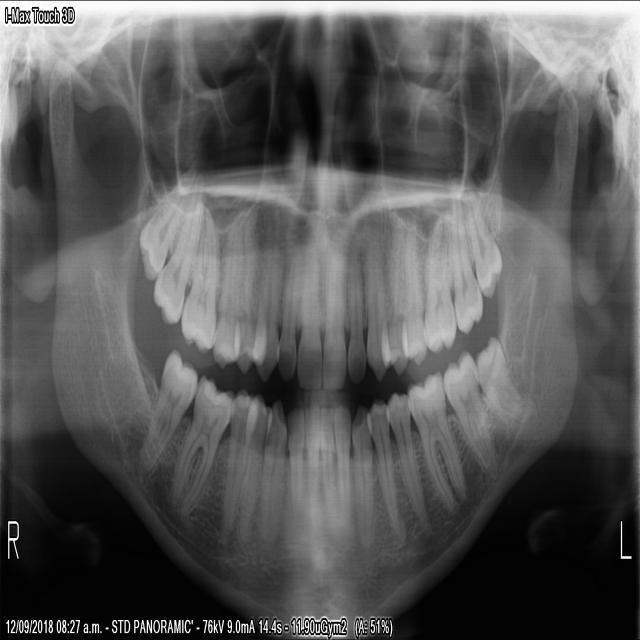LCD: (349, 402, 372, 553)
LCU: (363, 236, 389, 385)
LID: (316, 403, 336, 555), (332, 403, 351, 541)
LIU: (321, 238, 346, 392), (344, 244, 365, 389)
LMD: (404, 365, 466, 512), (442, 346, 497, 485), (472, 331, 522, 417)
LMU: (420, 223, 455, 356), (449, 198, 483, 334), (466, 191, 502, 302)
LPMD: (384, 387, 431, 540), (363, 396, 399, 542)
LPMU: (378, 218, 408, 377), (398, 218, 426, 369)
RCD: (259, 395, 286, 562)
RCU: (247, 221, 279, 383)
RID: (301, 401, 319, 548), (285, 402, 303, 536)
RIU: (294, 244, 321, 391), (273, 235, 298, 382)
RMD: (169, 373, 233, 519), (135, 341, 196, 474)
RMU: (150, 181, 203, 328), (178, 211, 219, 357), (135, 206, 171, 281)
RPMD: (218, 385, 255, 540), (235, 390, 270, 547)
RPMU: (209, 220, 239, 370), (232, 221, 254, 374)
